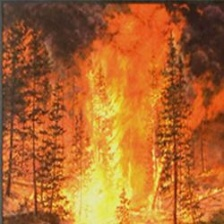fire: (51, 57, 200, 224)
